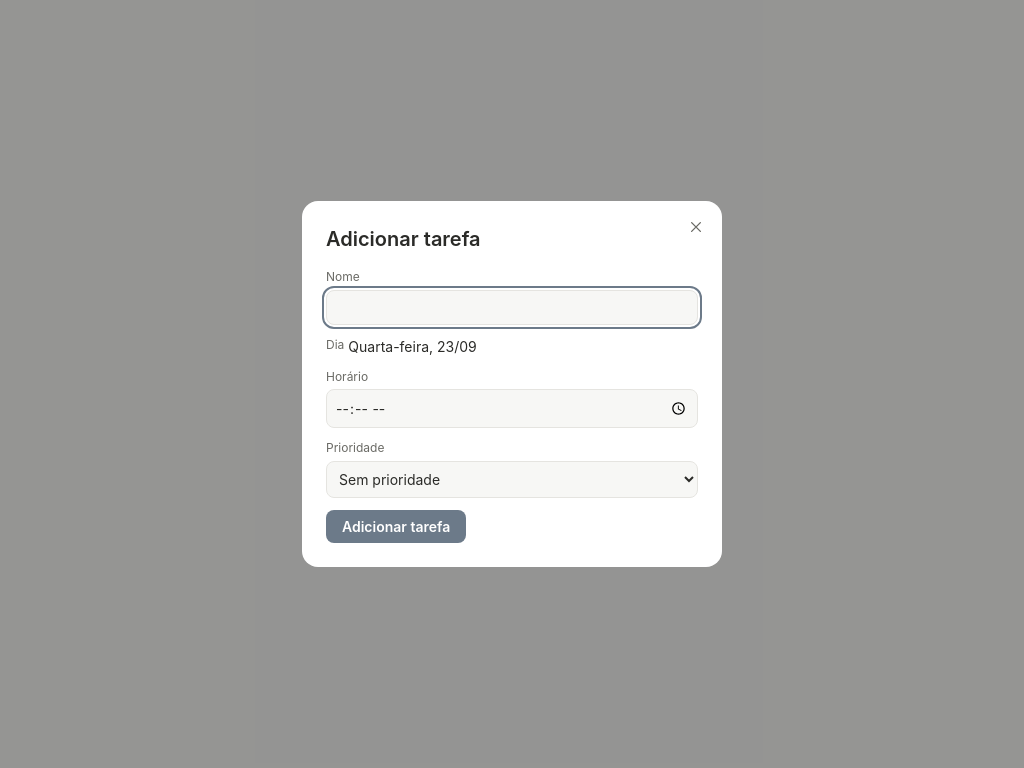
Test: TaskModal — horário digitado fora de HH:mm › não salva, mostra um erro claro e mantém o modal aberto com o que foi digitado
In the field labelled "Nome": (512, 308) [326, 290, 698, 325], type "Reunião"
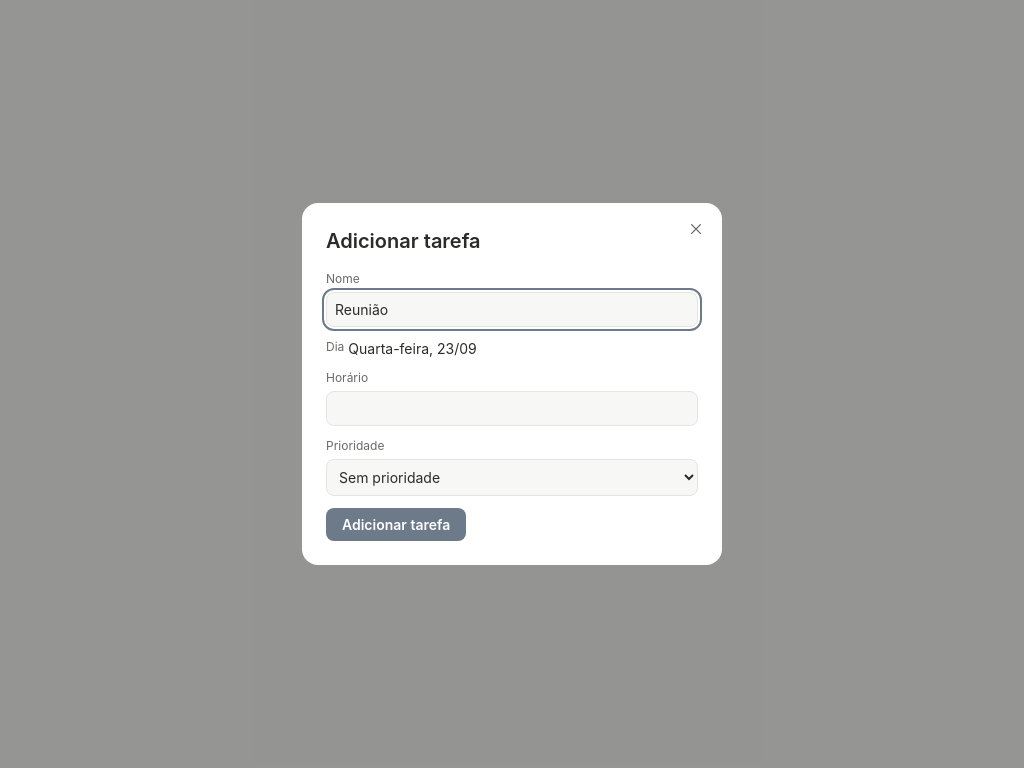
In the field labelled "Horário": (512, 409) [326, 391, 698, 426], type "9h30"
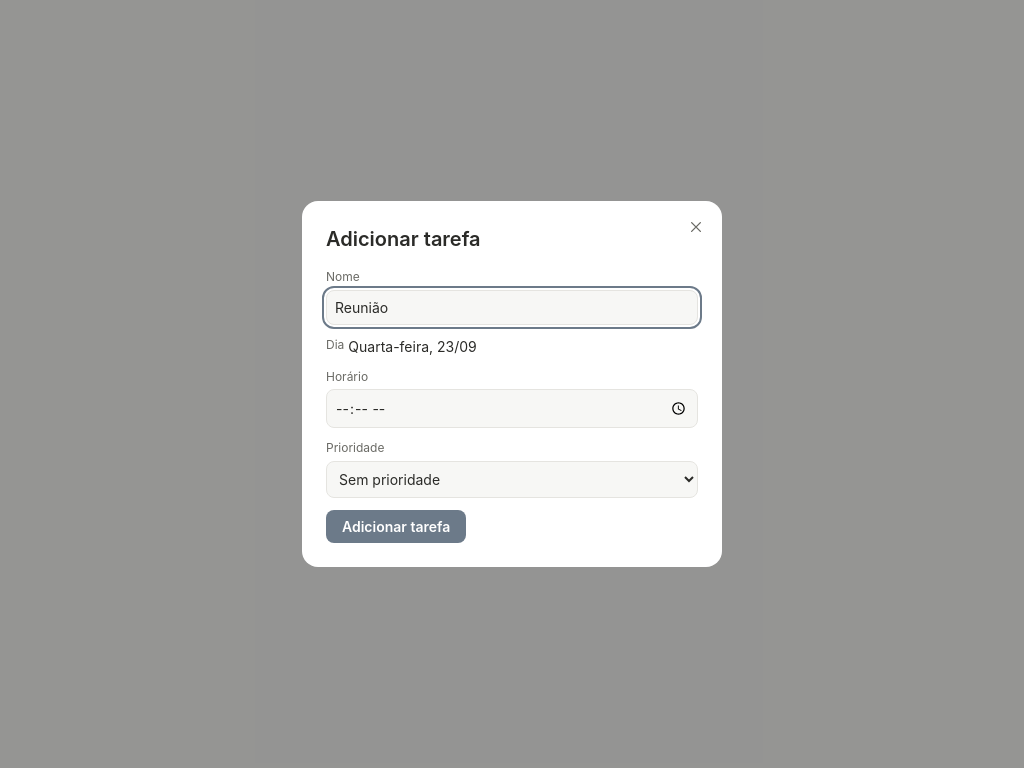
Click the button "Adicionar tarefa": (396, 526) [326, 510, 466, 543]
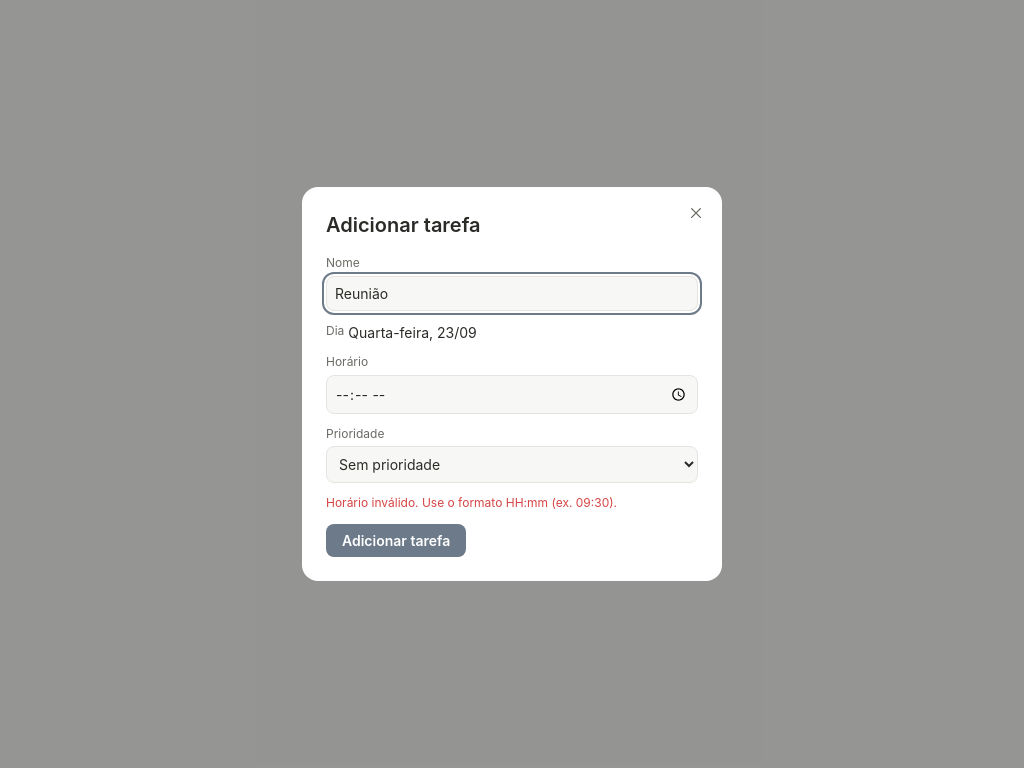
Result: the message reads "Horário inválido. Use o formato HH:mm (ex. 09:30)." at [326, 495, 617, 510]
